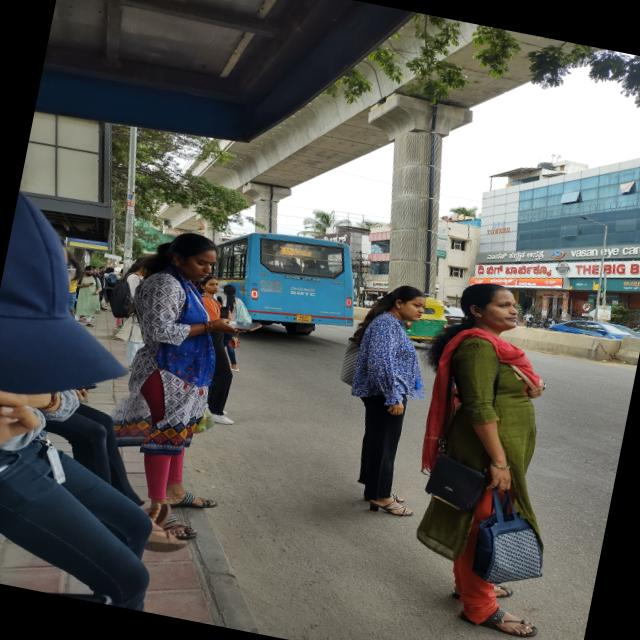bus: (212, 220, 374, 348)
display: (278, 244, 324, 262)
dnumber: (280, 246, 296, 256)
